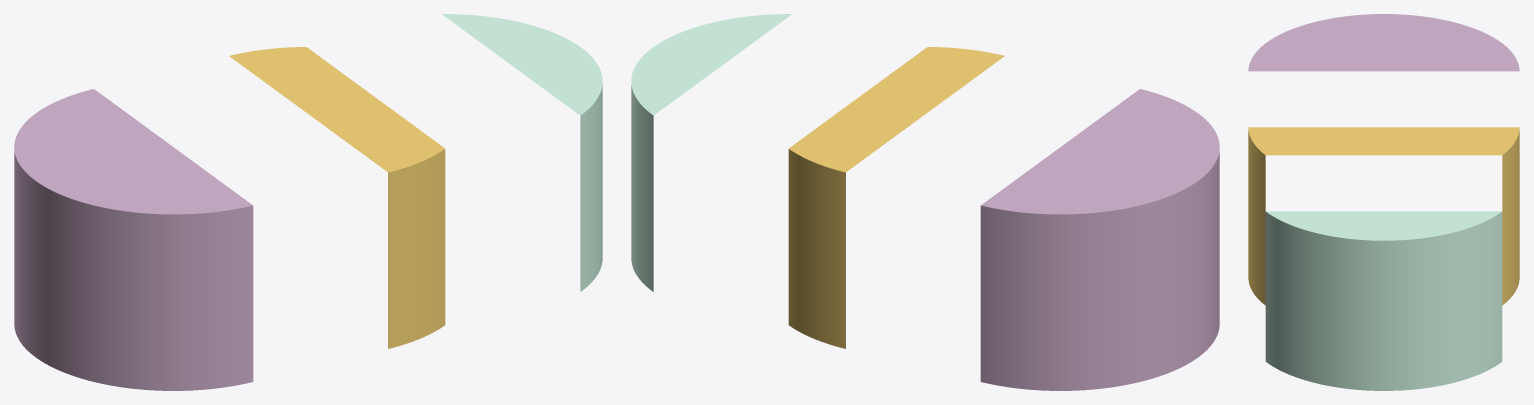
File: serial_test_example_fn_std-solid-split4_output.glb
3 views of the same model, side by side, from view 1: azimuth 30°, elevation 25°; view 2: azimuth 150°, elevation 25°; view 3: azimuth 270°, elevation 25° (orthographic). The views are drawn at different scales.
Size of the model in its own units: 0.0162 by 0.005 by 0.00818.
